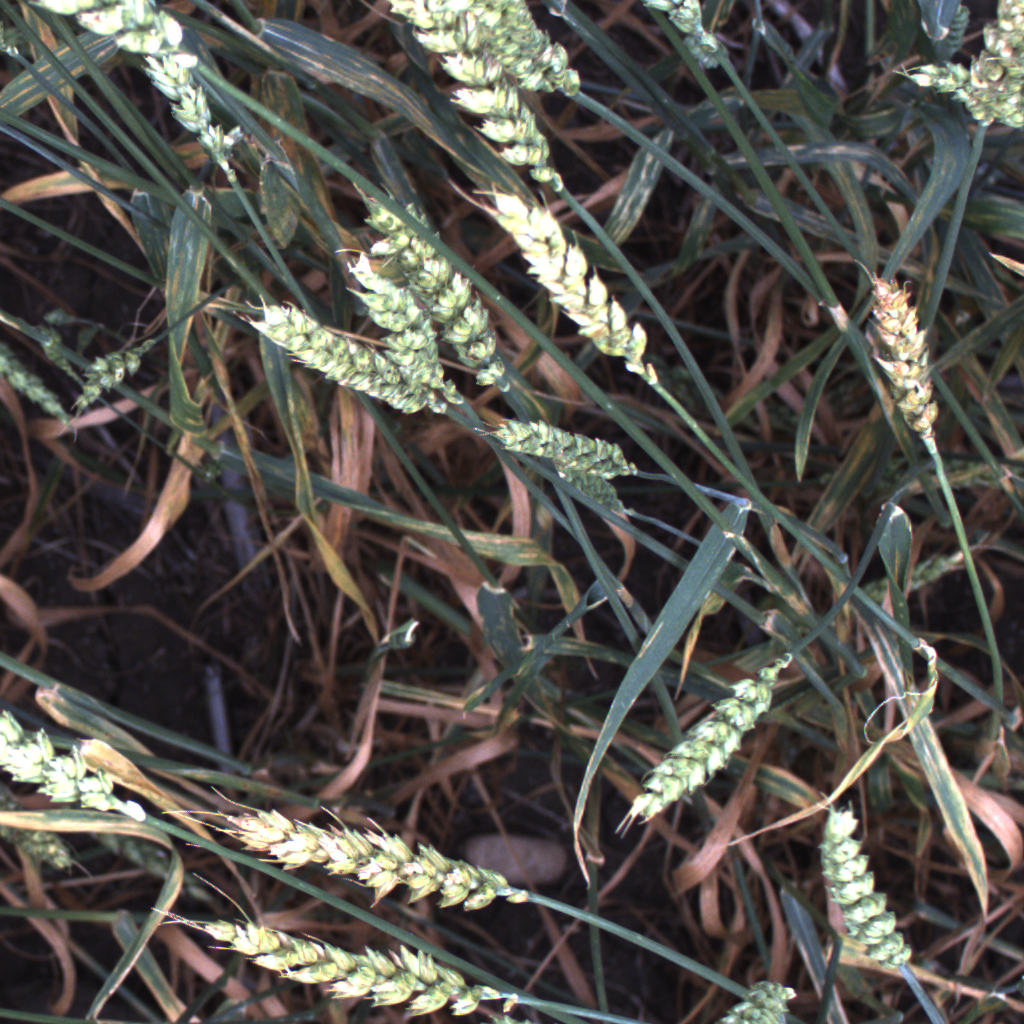wheat_head: (589, 633, 813, 847), (480, 169, 671, 394), (157, 905, 521, 1020), (205, 791, 537, 917), (378, 1, 575, 204), (344, 171, 516, 399), (224, 285, 449, 424), (323, 240, 470, 420), (806, 783, 926, 980), (0, 698, 161, 832), (855, 249, 958, 450), (131, 50, 243, 189), (451, 0, 593, 103), (28, 0, 212, 77), (477, 408, 645, 492), (58, 327, 170, 426), (516, 462, 649, 541), (891, 52, 1024, 131), (965, 0, 1024, 152), (635, 0, 748, 72), (705, 964, 827, 1024)
